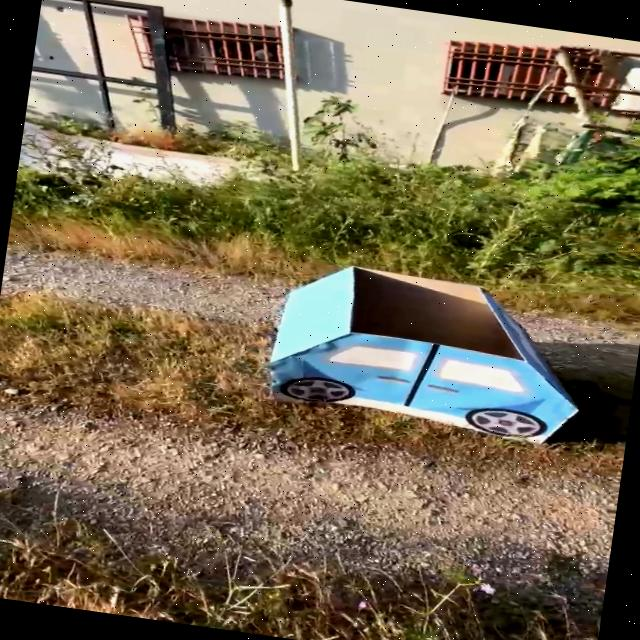blue_car: (225, 224, 640, 477)
